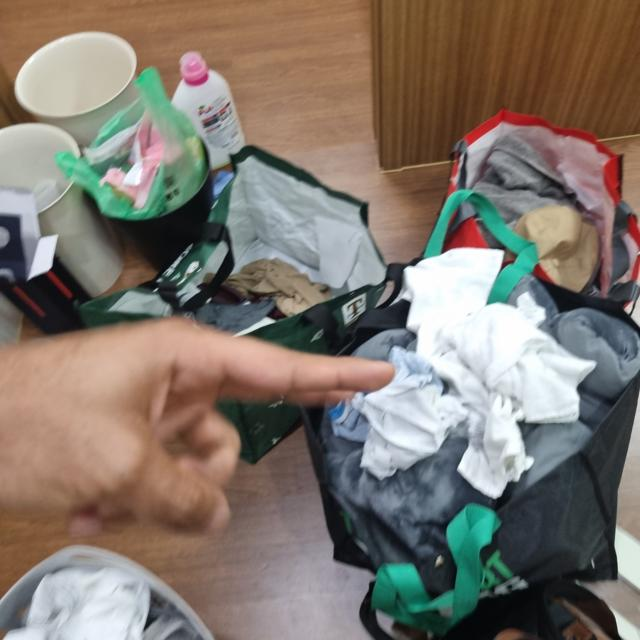Scissors: (0, 314, 391, 621)
